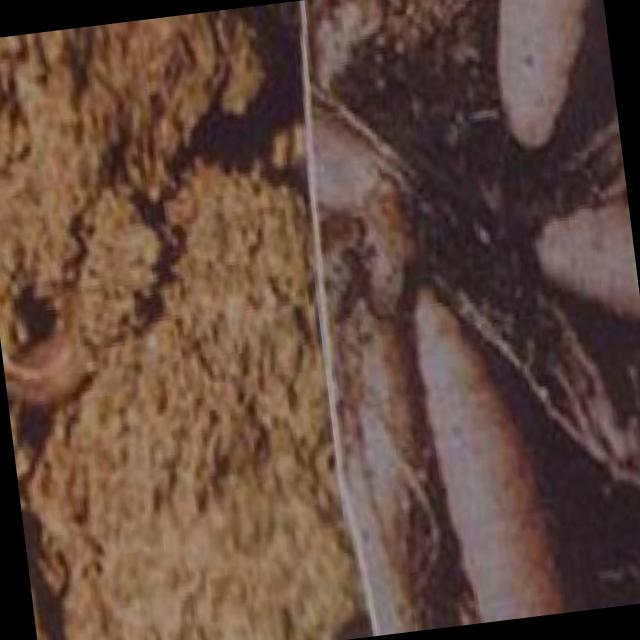whorl-maggot: (415, 279, 566, 622), (495, 0, 598, 146), (538, 207, 640, 324)
